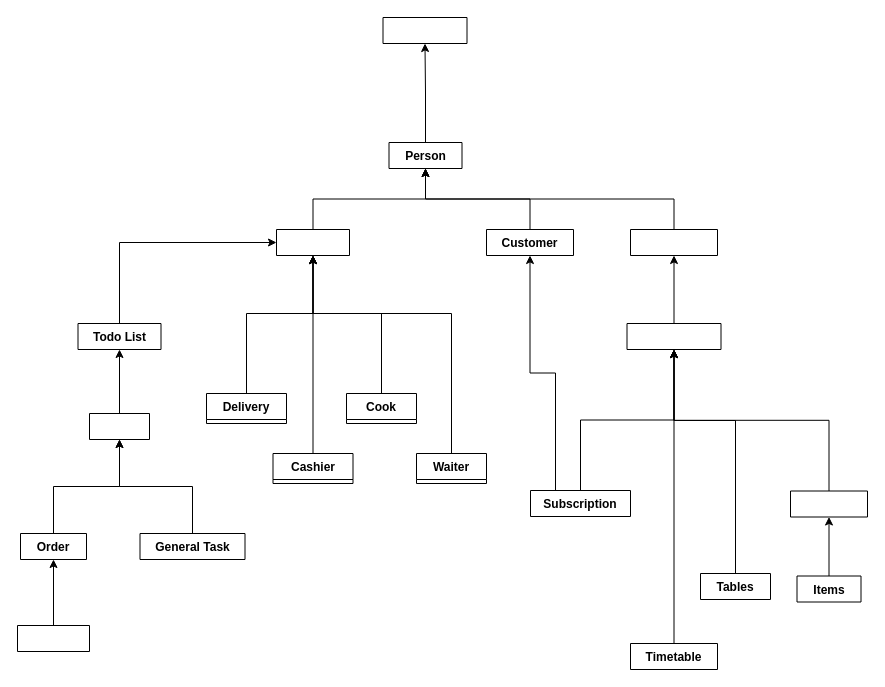
This 885x687 diagram has some shape labels left out. Here are the shapes that lost their labels. From the top down, the centre of each, then its label:
At (424,30): "Accounts".
At (313,242): "Worker".
At (674,242): "Owner".
At (673,336): "Restaurant".
At (119,426): "Task".
At (829,503): "Storage".
At (53,638): "Dishes".
